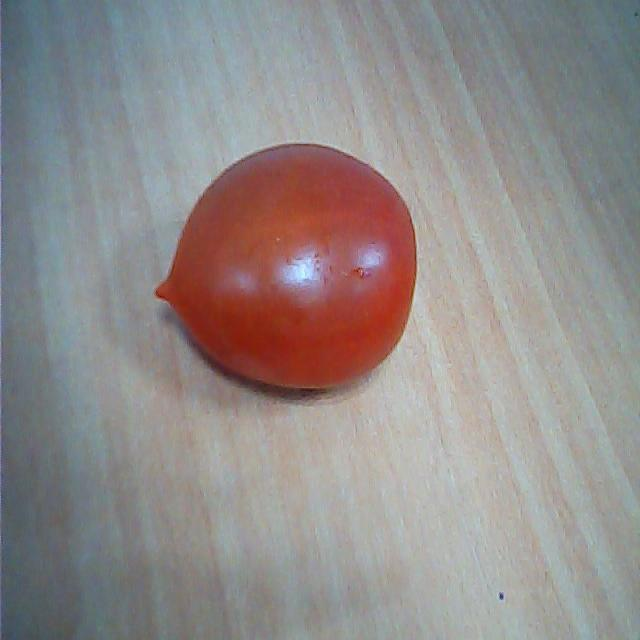maduro: (152, 142, 420, 398)
